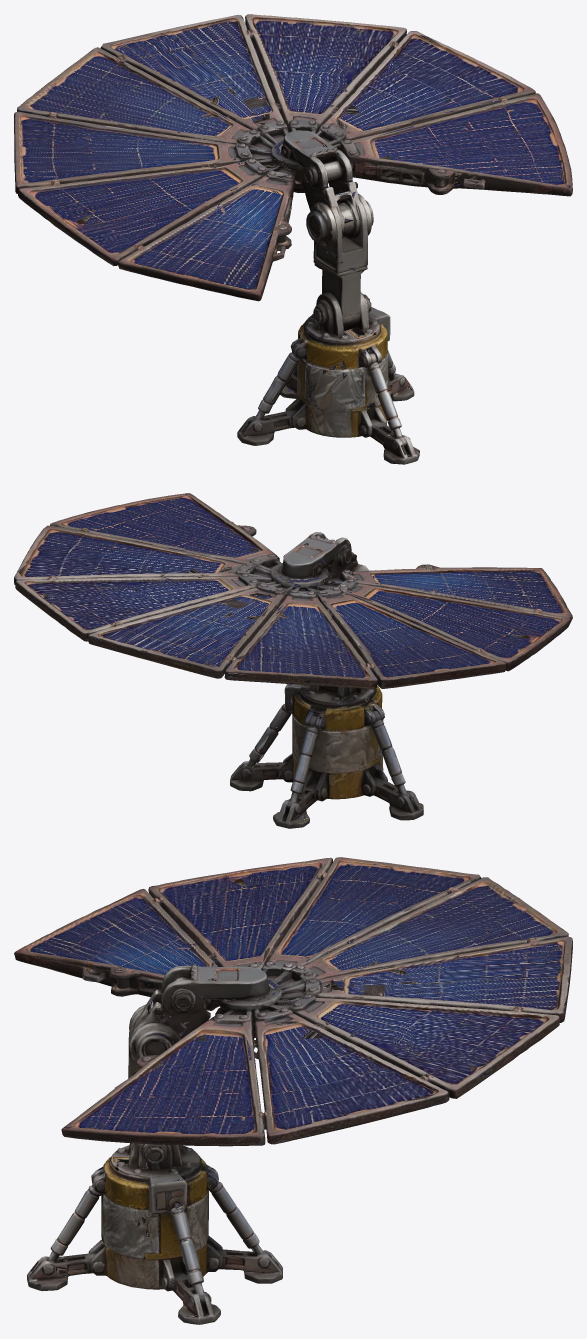
The model's file is solar-panel.glb.
The picture shows the model from 3 angles, top to bottom: view 1: azimuth 30°, elevation 25°; view 2: azimuth 150°, elevation 25°; view 3: azimuth 270°, elevation 25°; orthographic projection. The views are drawn at different scales.
Parts seen in each view (by area): view 1: tripo_node_9273f640-1ebe-47f2-a90d-bfc62623e2ea; view 2: tripo_node_9273f640-1ebe-47f2-a90d-bfc62623e2ea; view 3: tripo_node_9273f640-1ebe-47f2-a90d-bfc62623e2ea.
Part boxes in pixels (x1,y1,x2,y2): tripo_node_9273f640-1ebe-47f2-a90d-bfc62623e2ea: (14,14,572,464); tripo_node_9273f640-1ebe-47f2-a90d-bfc62623e2ea: (14,493,572,828); tripo_node_9273f640-1ebe-47f2-a90d-bfc62623e2ea: (14,857,572,1324).
Bounding box in the file's own units: 0.9795 × 0.5026 × 0.835.
Materials: 1 (1 with a texture image).
